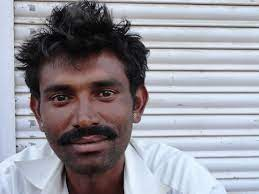s.black: (98, 106, 129, 150)
